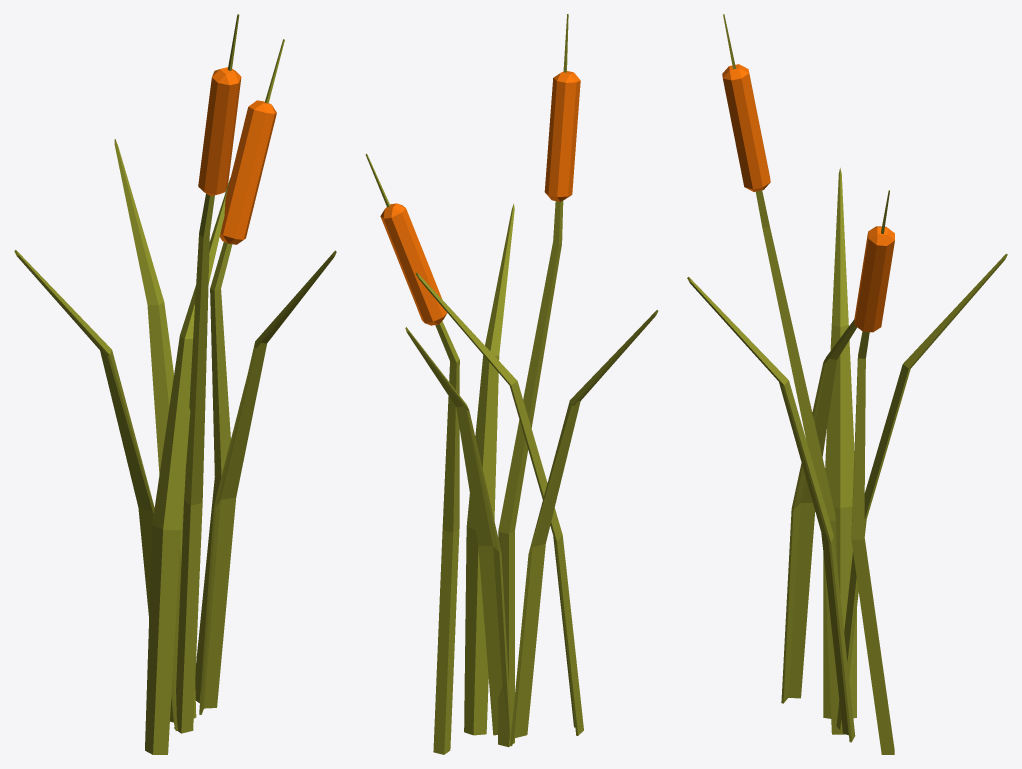
File: trust.glb
The picture shows the model from 3 angles, left to right: view 1: azimuth 30°, elevation 25°; view 2: azimuth 150°, elevation 25°; view 3: azimuth 270°, elevation 25°; orthographic projection. The views are drawn at different scales.
Parts seen in each view (by area): view 1: ziran.821; view 2: ziran.821; view 3: ziran.821.
Part boxes in pixels (x1,y1,x2,y2): ziran.821: (14, 14, 336, 754); ziran.821: (365, 14, 658, 754); ziran.821: (687, 14, 1007, 754).
Size of the model in its own units: 0.7011 by 1.72 by 0.7002.
1 material, 1 textured.
